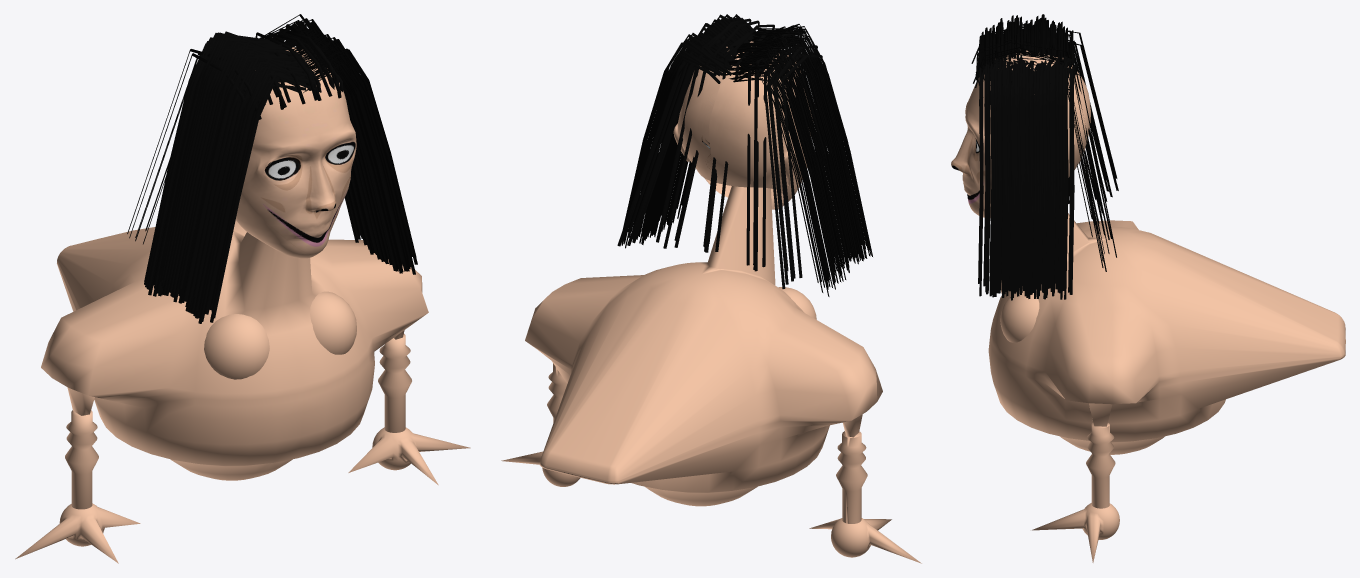
The model's file is MomoFinal.fbx.
3 renders of one model, left to right at view 1: azimuth 30°, elevation 25°; view 2: azimuth 150°, elevation 25°; view 3: azimuth 270°, elevation 25°, orthographic. The views are drawn at different scales.
Parts seen in each view (by area): view 1: Body; view 2: Body; view 3: Body.
Boxes of the visible parts, x1,y1,x2,y2 form: Body: [15, 14, 470, 563]; Body: [501, 14, 921, 563]; Body: [951, 14, 1345, 562].
Bounding box in the file's own units: 368 × 391 × 318.
Materials: 3 (2 with a texture image).
